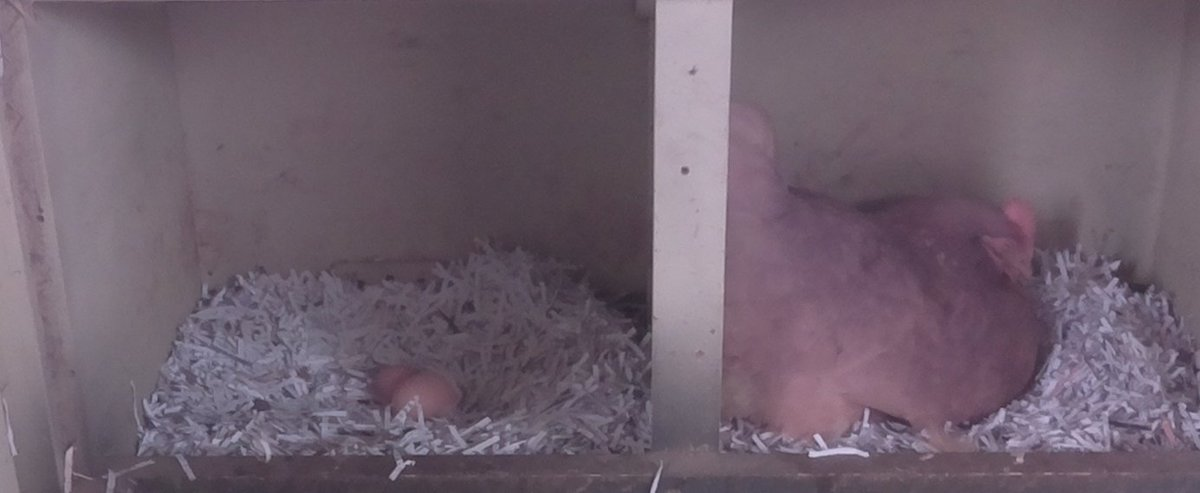egg: (388, 365, 463, 423), (370, 357, 420, 401)
hen: (733, 95, 1050, 444)
